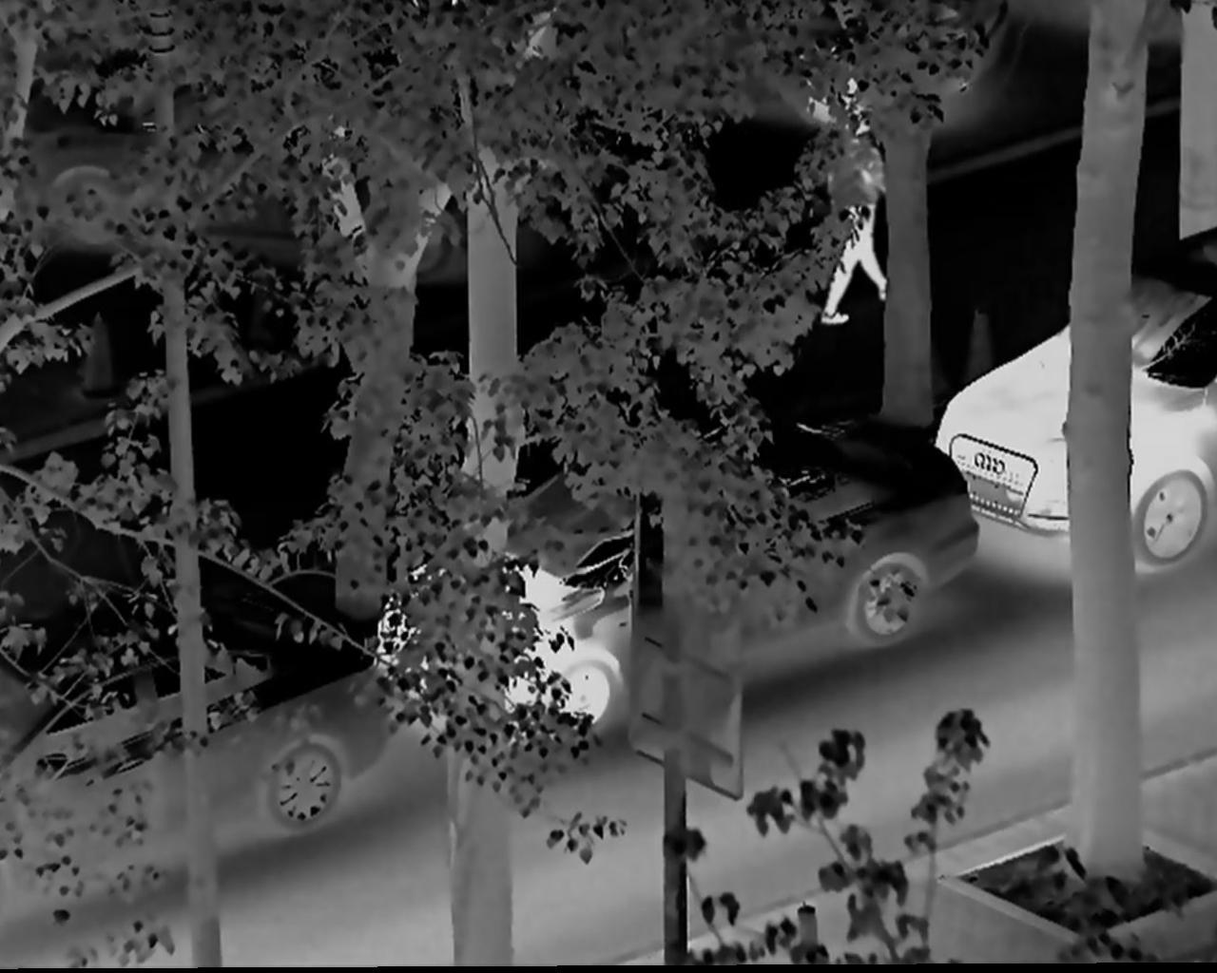person: (805, 100, 899, 338)
